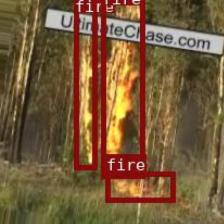fire: (100, 0, 144, 177), (72, 0, 96, 169), (104, 171, 174, 202)
